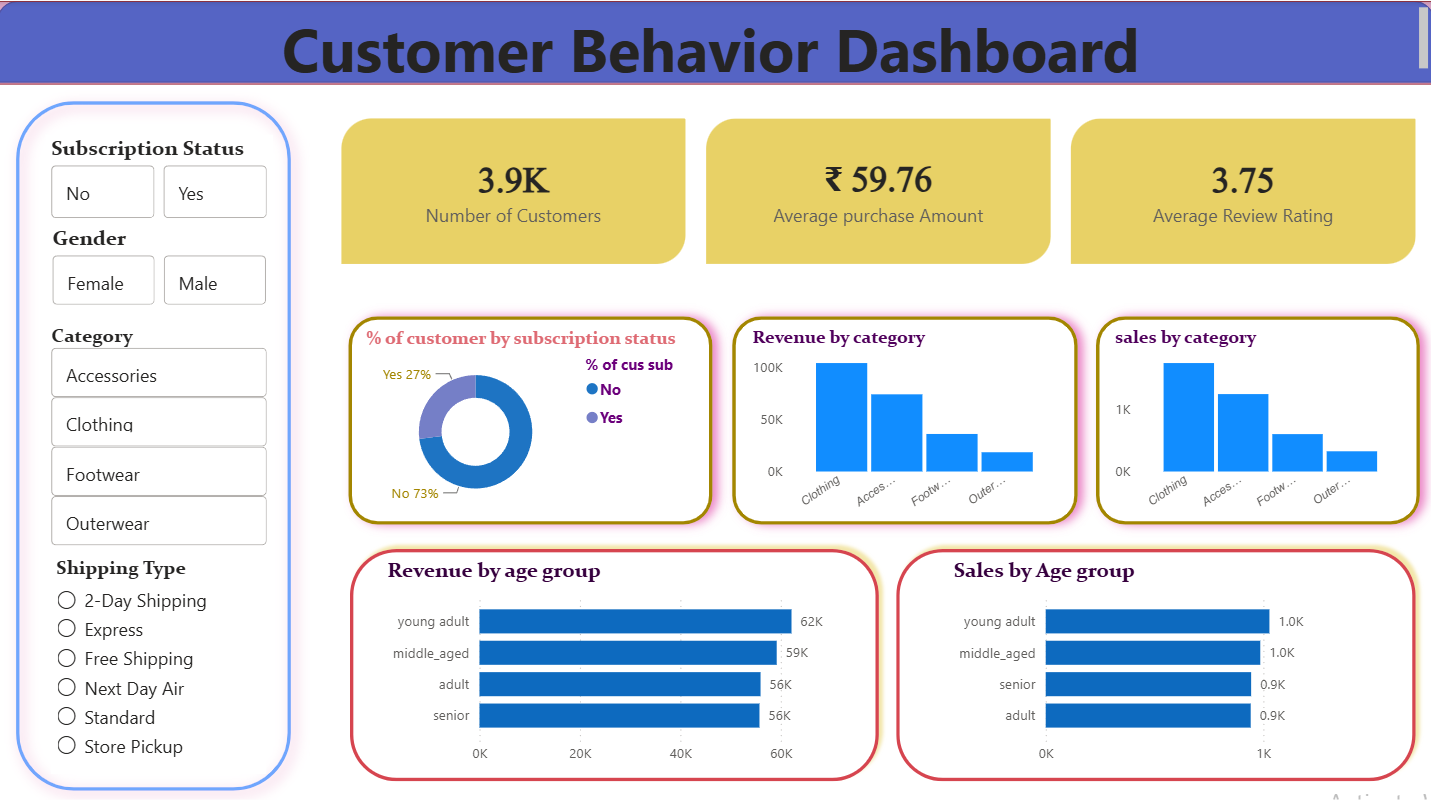

Layout of this report page (visuals, bound fields, positions):
{"tool":"powerbi","page":{"name":"Page 1","canvas":[1280,720],"ordinal":0},"visuals":[{"type":"cardVisual","fields":{"Data":["public customer.Number of Customers","public customer.Average purchase Amount","public customer.Average Review Rating"]},"box":[288.3,90.5,991.7,158],"z":0},{"type":"shape","box":[0,0,1280.3,72.7],"z":1000},{"type":"textbox","box":[0,0,1280.3,74],"z":2000},{"type":"shape","box":[299.1,267.6,351.3,212.7],"z":3000},{"type":"donutChart","title":"% of customer by subscription status","fields":{"Category":["public customer.subscription_status"],"Y":["CountNonNull(public customer.customer_id)"]},"box":[323.8,290.9,301.9,167.4],"z":4000},{"type":"shape","box":[640.8,267.6,334.8,212.7],"z":5000},{"type":"shape","box":[964.7,267.6,315.6,212.7],"z":6000},{"type":"clusteredColumnChart","title":"Revenue by category","fields":{"Y":["Sum(public customer.purchase_amount)"],"Category":["public customer.category"]},"box":[668.3,289.5,279.9,168.8],"z":7000},{"type":"clusteredColumnChart","title":"sales by category","fields":{"Category":["public customer.category"],"Y":["CountNonNull(public customer.customer_id)"]},"box":[990.7,289.5,263.5,168.8],"z":8000},{"type":"shape","box":[0,72.4,278.7,647.9],"z":9000},{"type":"advancedSlicerVisual","title":"Subscription Status","fields":{"Values":["public customer.subscription_status"]},"box":[43.4,119.4,202.7,79.6],"z":10000},{"type":"advancedSlicerVisual","fields":{"Values":["public customer.gender"]},"box":[44.6,199.1,201.5,77.2],"z":11000},{"type":"shape","box":[792.6,480.2,479,223.2],"z":12000},{"type":"shape","box":[306.4,480.2,487.4,223.2],"z":13000},{"type":"clusteredBarChart","title":"Revenue by age group","fields":{"Y":["Sum(public customer.purchase_amount)"],"Category":["public customer.age_group"]},"box":[342.6,495.8,415,193],"z":14000},{"type":"clusteredBarChart","title":"Sales by Age group","fields":{"Y":["CountNonNull(public customer.customer_id)"],"Category":["public customer.age_group"]},"box":[846.9,495.8,389.7,193],"z":15000},{"type":"listSlicer","title":"Shipping Type","fields":{"Values":["public customer.shipping_type"]},"box":[48.3,493.4,191.8,195.4],"z":16000},{"type":"advancedSlicerVisual","title":"Category","fields":{"Values":["public customer.category"]},"box":[43.4,287.1,202.7,206.3],"z":17000}]}

Visuals, with their boxes in screenshot pixels (x1, y1, x2, y2), scaled from the page's 1280x720 canvas onto the 1431x800 screenshot:
cardVisual - public customer.Number of Customers x public customer.Average purchase Amount: box=[322, 101, 1430, 276]
shape: box=[0, 0, 1430, 81]
textbox: box=[0, 0, 1430, 82]
shape: box=[334, 297, 727, 534]
"% of customer by subscription status" donutChart: box=[362, 323, 700, 509]
shape: box=[716, 297, 1091, 534]
shape: box=[1079, 297, 1430, 534]
"Revenue by category" clusteredColumnChart: box=[747, 322, 1060, 509]
"sales by category" clusteredColumnChart: box=[1108, 322, 1402, 509]
shape: box=[0, 80, 312, 799]
"Subscription Status" advancedSlicerVisual: box=[49, 133, 275, 221]
advancedSlicerVisual - public customer.gender: box=[50, 221, 275, 307]
shape: box=[886, 534, 1422, 782]
shape: box=[343, 534, 887, 782]
"Revenue by age group" clusteredBarChart: box=[383, 551, 847, 765]
"Sales by Age group" clusteredBarChart: box=[947, 551, 1382, 765]
"Shipping Type" listSlicer: box=[54, 548, 268, 765]
"Category" advancedSlicerVisual: box=[49, 319, 275, 548]
